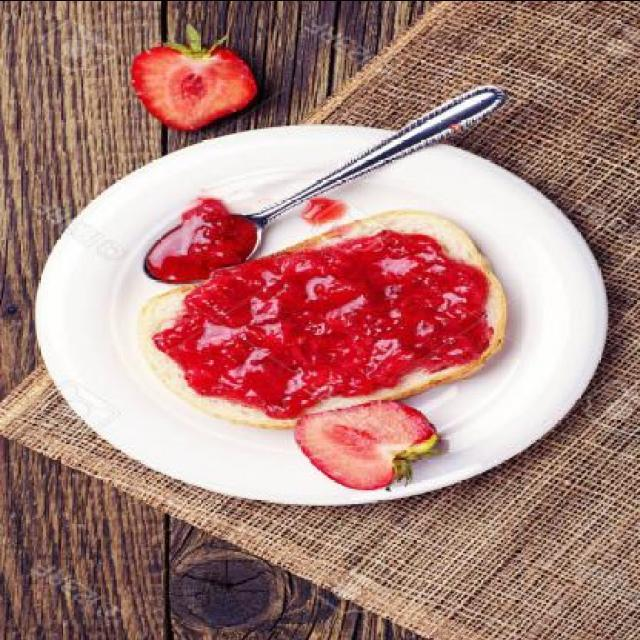Spread: (152, 228, 494, 416)
